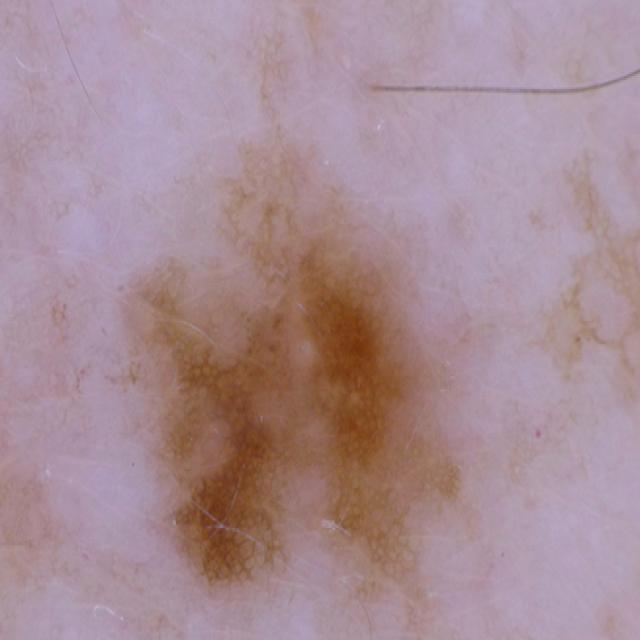Keratosis: (70, 142, 519, 640)
